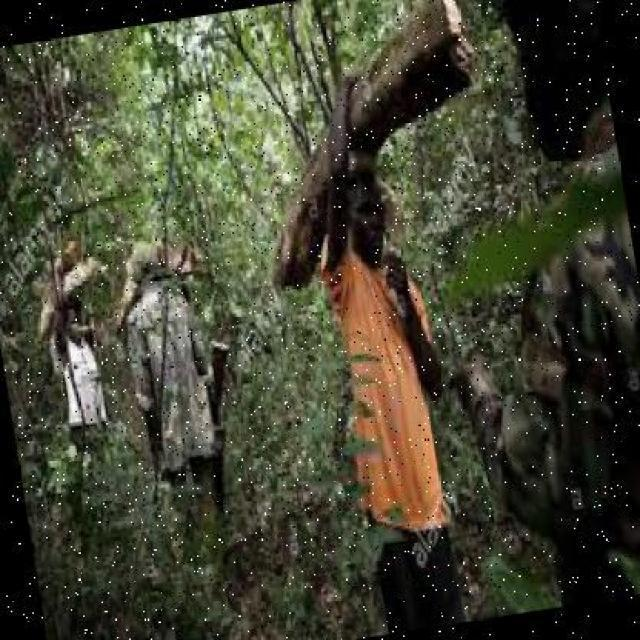poacher: (328, 91, 443, 572)
